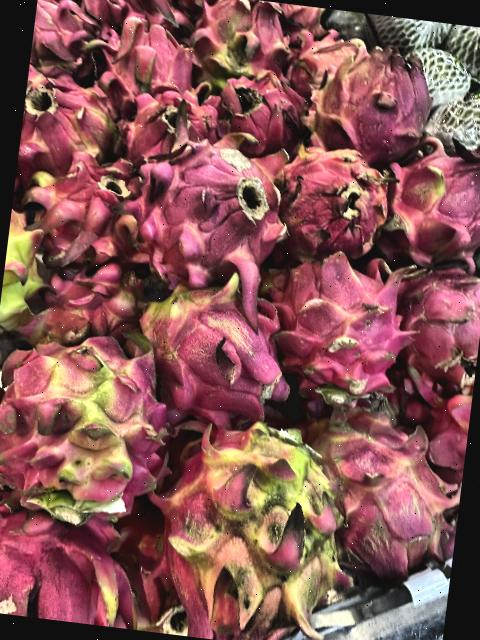buah-naga-belum-matang: (141, 407, 373, 640), (0, 342, 179, 536), (295, 403, 469, 580), (132, 271, 308, 427), (187, 0, 301, 94), (0, 203, 48, 333)
buah-naga-matang: (126, 120, 289, 298), (258, 245, 409, 408), (0, 496, 148, 629), (301, 31, 432, 166), (272, 140, 394, 268), (16, 58, 126, 190), (28, 147, 150, 264), (384, 126, 480, 274), (386, 262, 480, 391), (39, 253, 151, 349), (89, 15, 199, 101), (207, 61, 310, 148), (121, 71, 212, 156), (28, 0, 103, 84), (91, 0, 173, 30)
